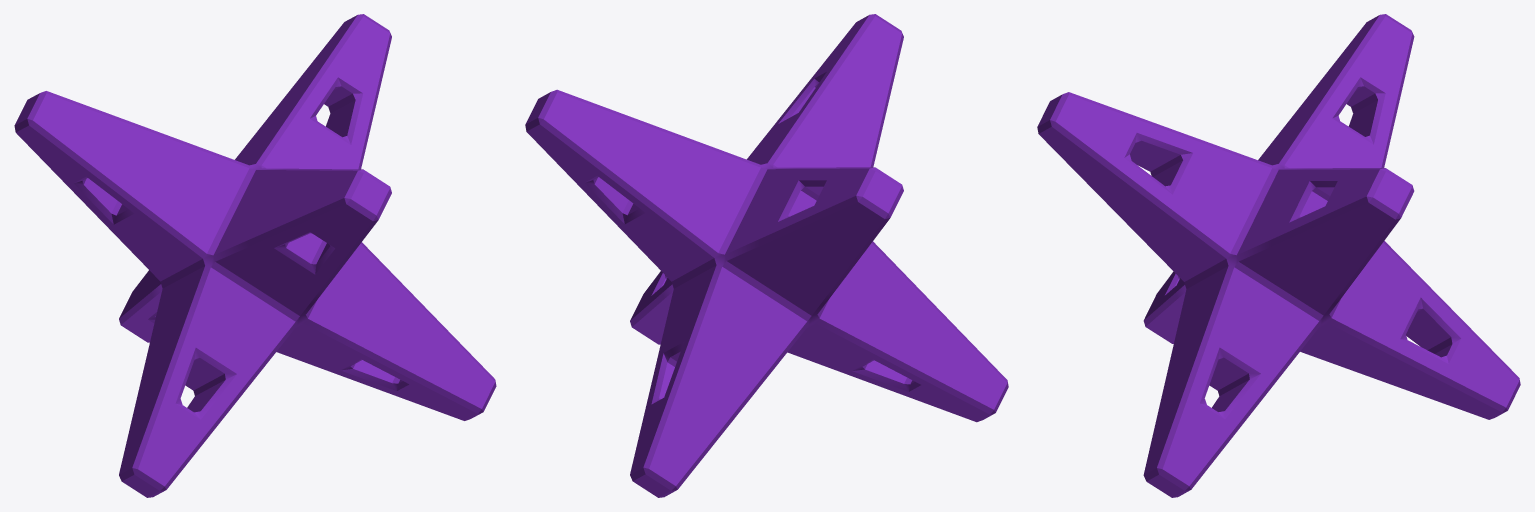
The model's file is trap.glb.
3 views of the same model, side by side, from view 1: azimuth 30°, elevation 25°; view 2: azimuth 150°, elevation 25°; view 3: azimuth 270°, elevation 25° (orthographic).
Visible parts, largest first — view 1: Box002; view 2: Box002; view 3: Box002.
Part boxes in pixels (x1,y1,x2,y2): Box002: (14, 14, 496, 497); Box002: (525, 14, 1008, 497); Box002: (1037, 14, 1520, 497).
Bounding box in the file's own units: 2.3 × 1.99 × 2.66.
